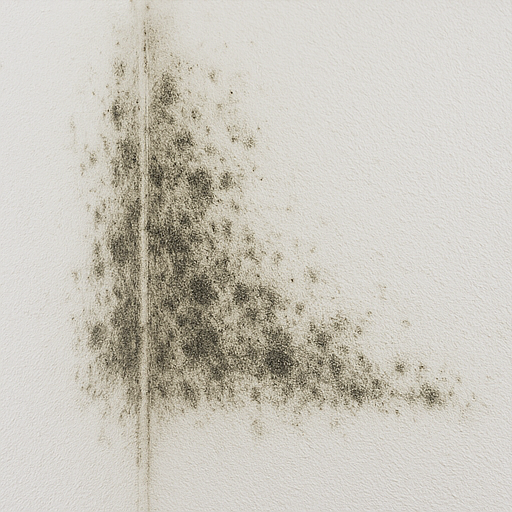schimmel: (154, 82, 219, 404), (106, 85, 144, 410), (306, 326, 431, 399), (225, 238, 261, 390), (270, 294, 299, 395)
